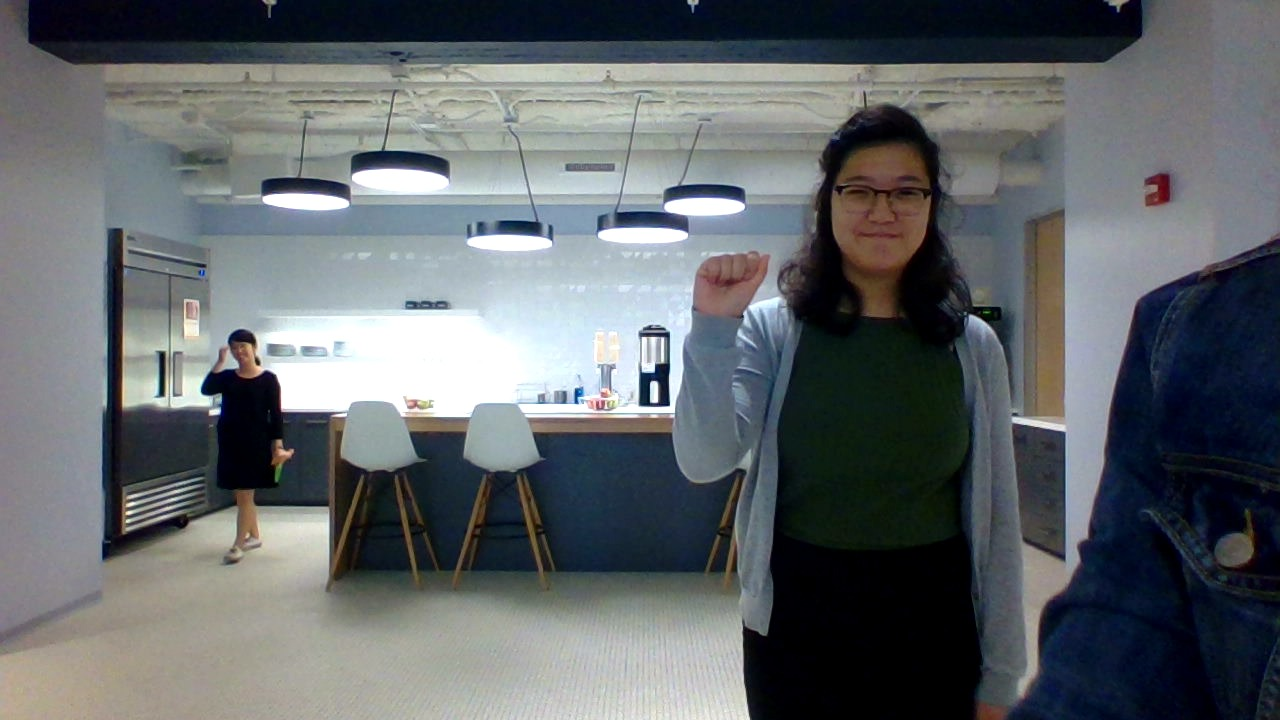a: (677, 238, 781, 337)
